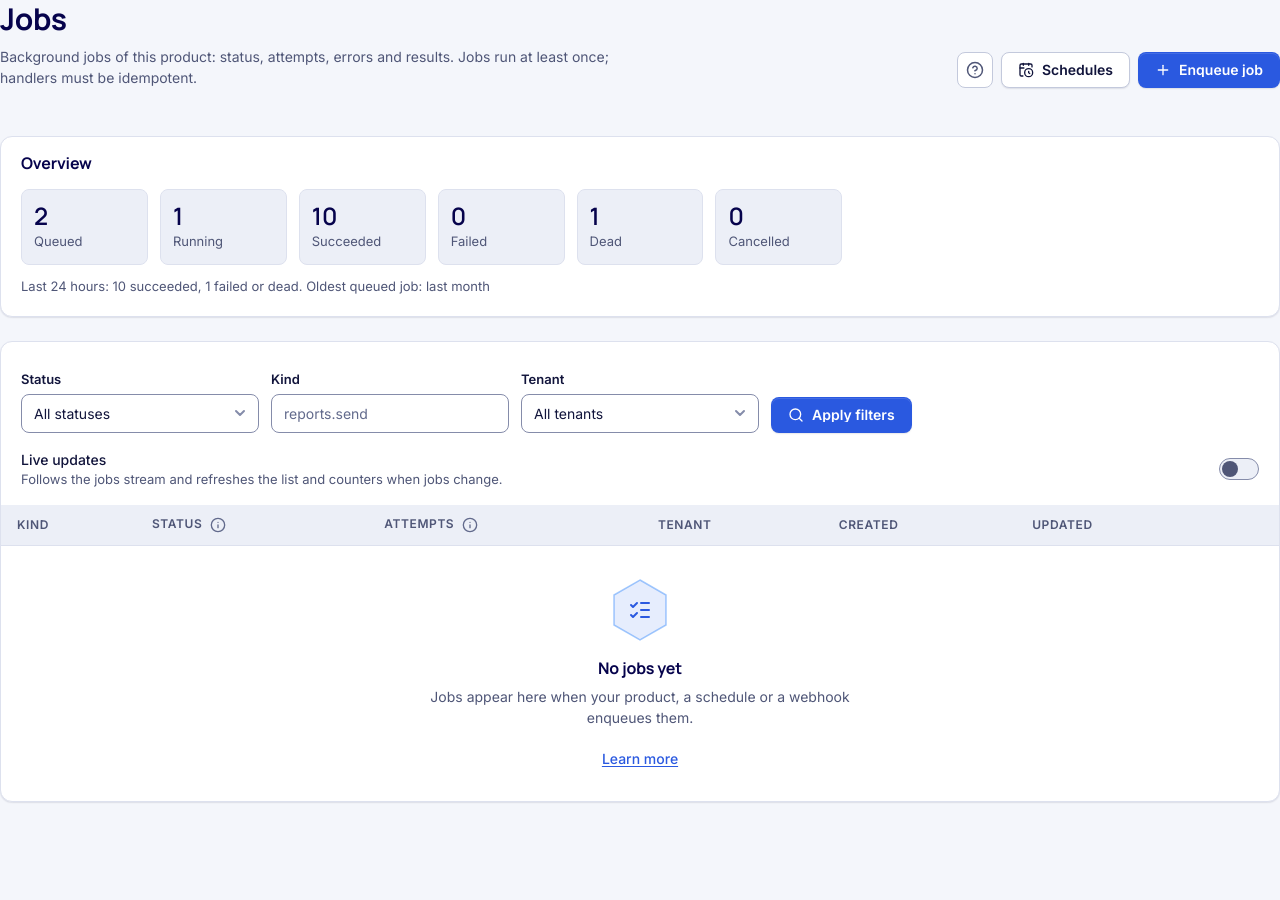
Scenario: JobsPage › suggests the declared kinds to jobs:manage holders without limiting them
The width and height of the screenshot is (1280, 900).
Click the button "Enqueue job": click(1209, 70) [1138,52,1279,88]
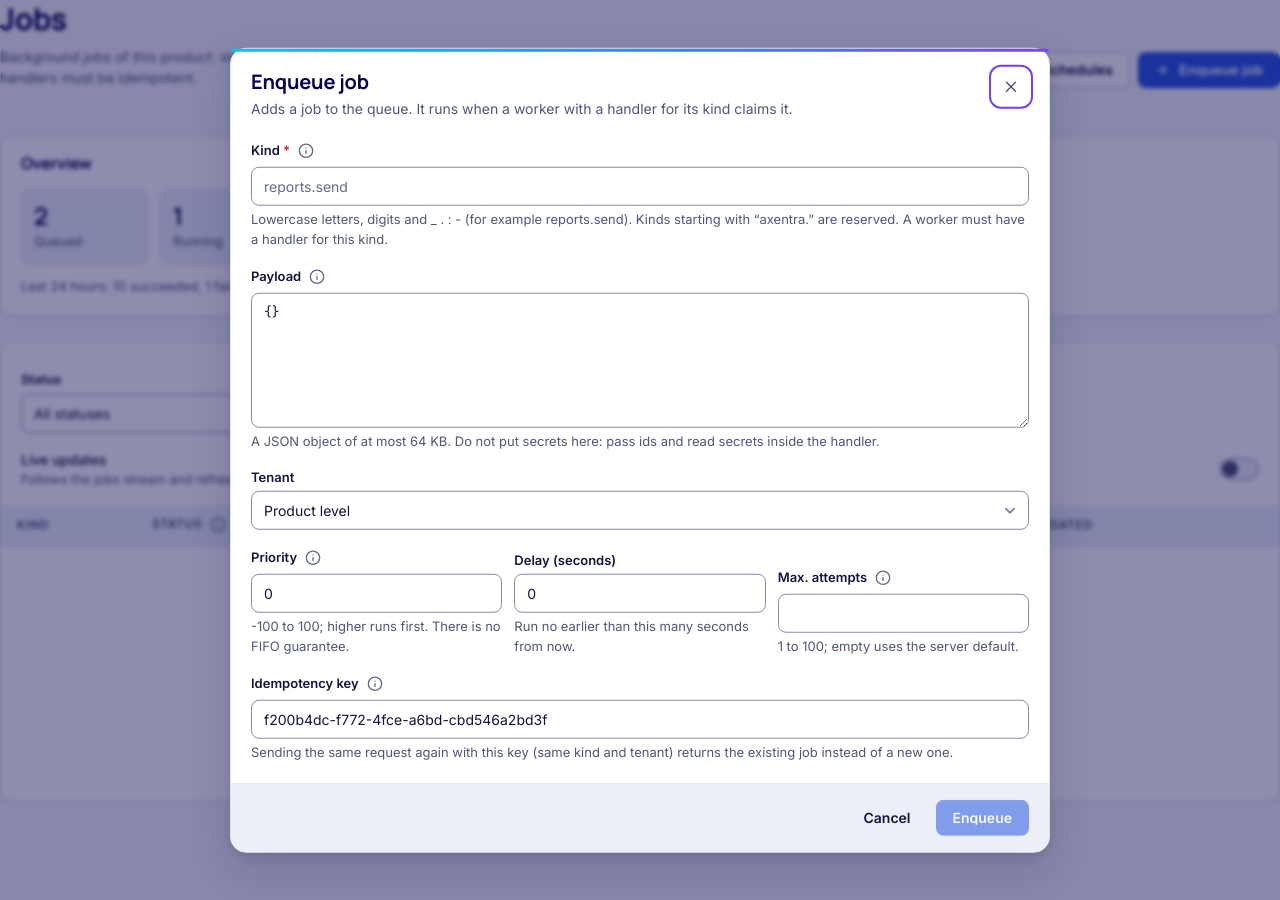
In the field labelled "Kind *": (640, 186) [251,167,1029,206], type "anything.else"
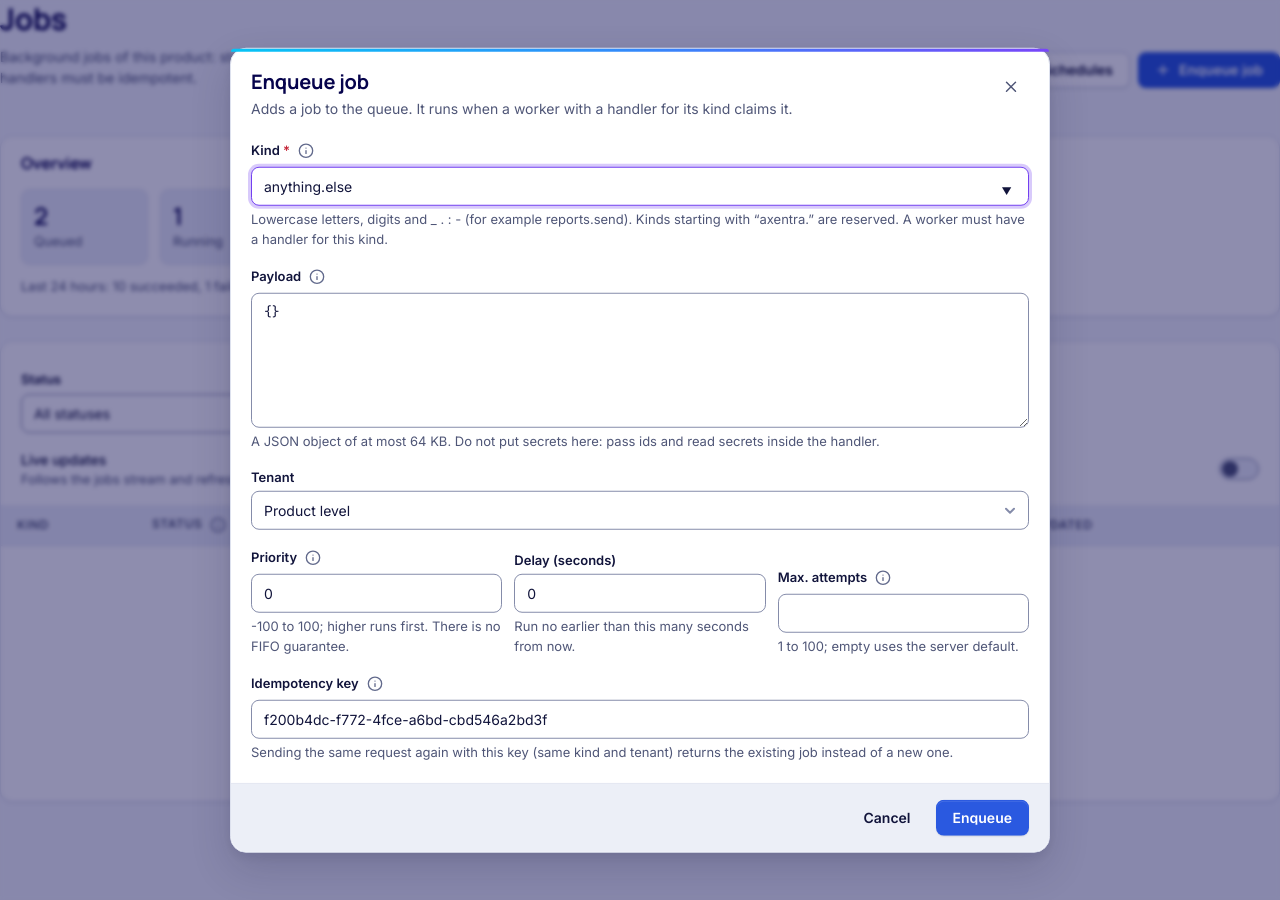
Expected: the button "Enqueue" is enabled, [936,799,1029,835]
